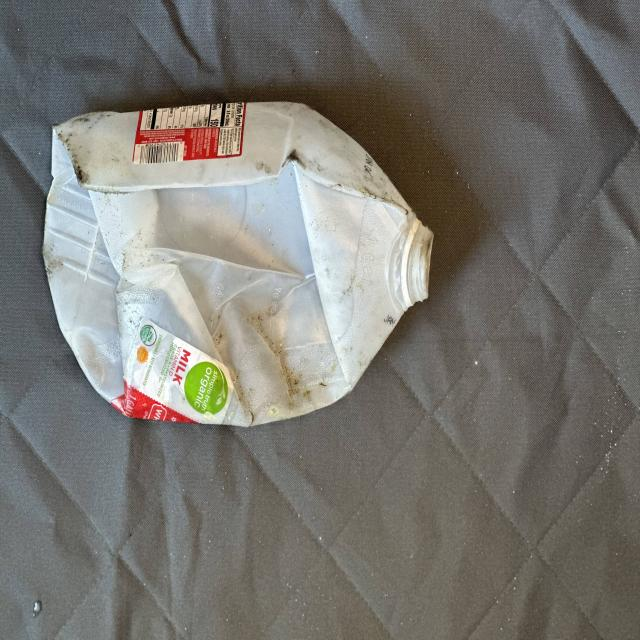milk-jug: (42, 111, 437, 430)
